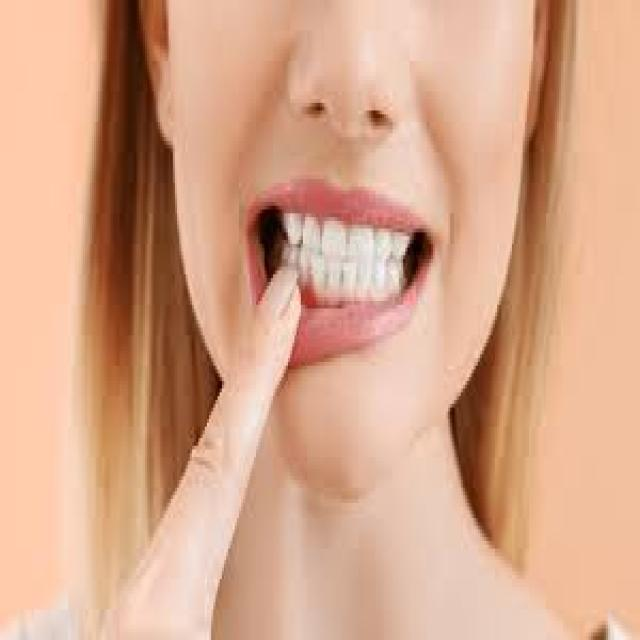abscess: (297, 270, 317, 304)
